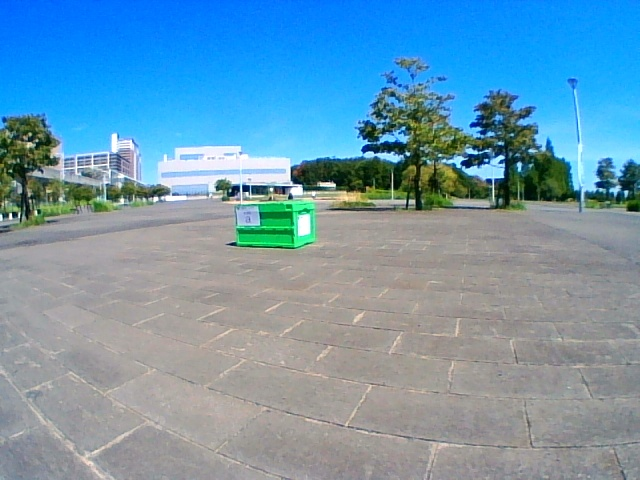green_box: (234, 202, 313, 247)
tag_a: (237, 207, 258, 226)
